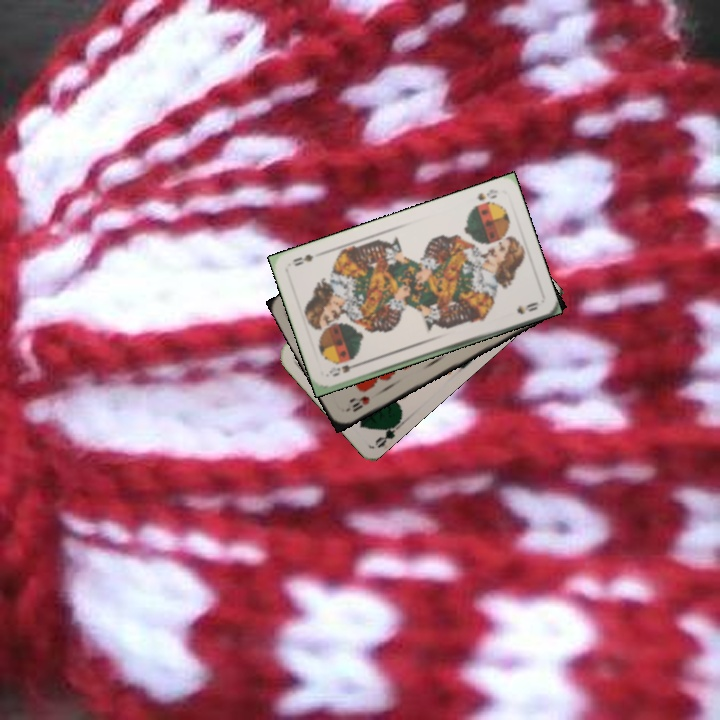GO: (371, 415, 407, 450)
H10: (348, 392, 373, 415)
SO: (325, 358, 364, 379), (473, 185, 500, 203)
